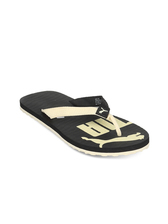shoes: (15, 83, 153, 158)
